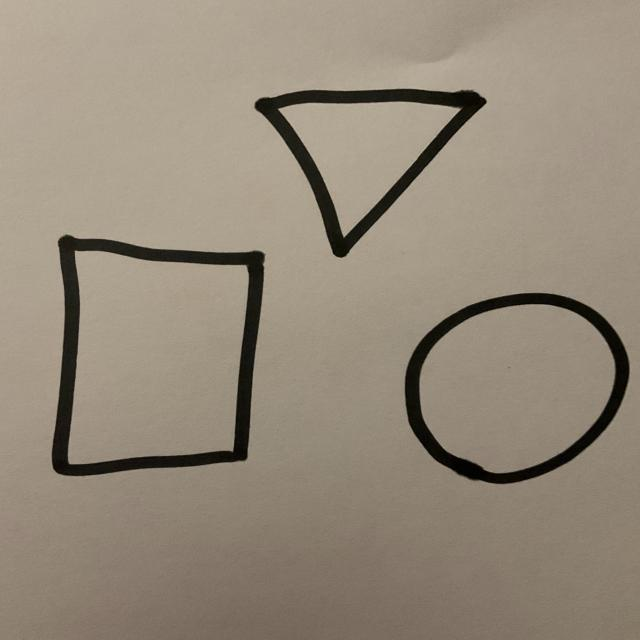Dreieck: (254, 88, 488, 261)
Kreis: (402, 293, 631, 488)
Quadrat: (51, 236, 267, 479)
